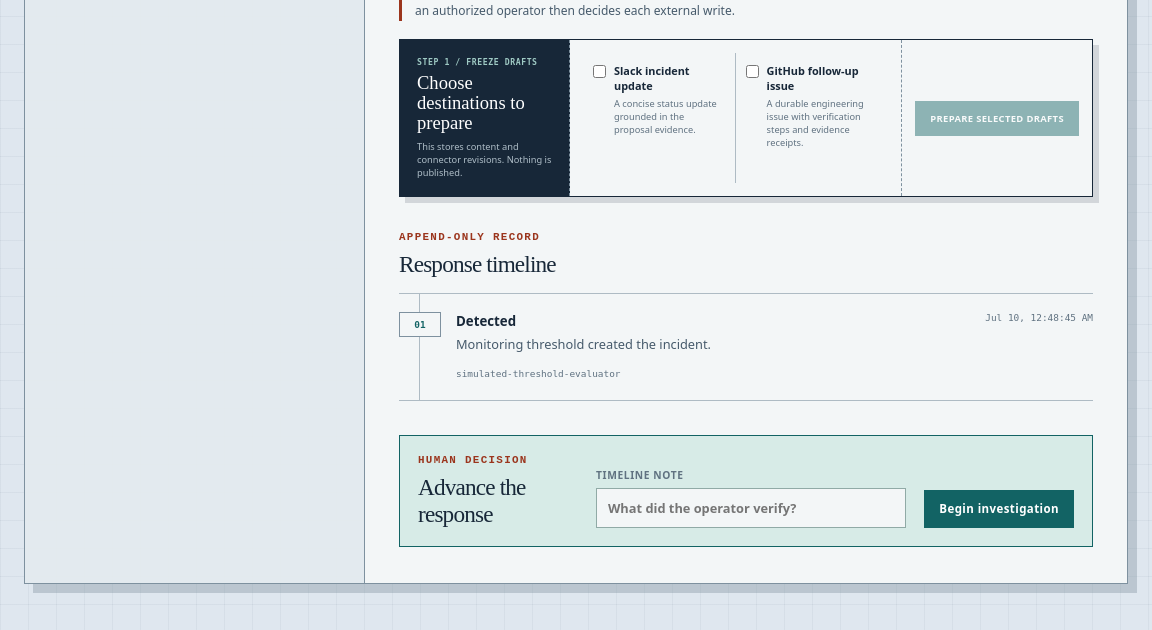
Test: requires evidence review before approving and shows recovery receipt
(page scrolled)
Step 1. Click the button "Begin investigation" → coordinates (999, 509), box 924,490 -> 1074,528
(page scrolled)
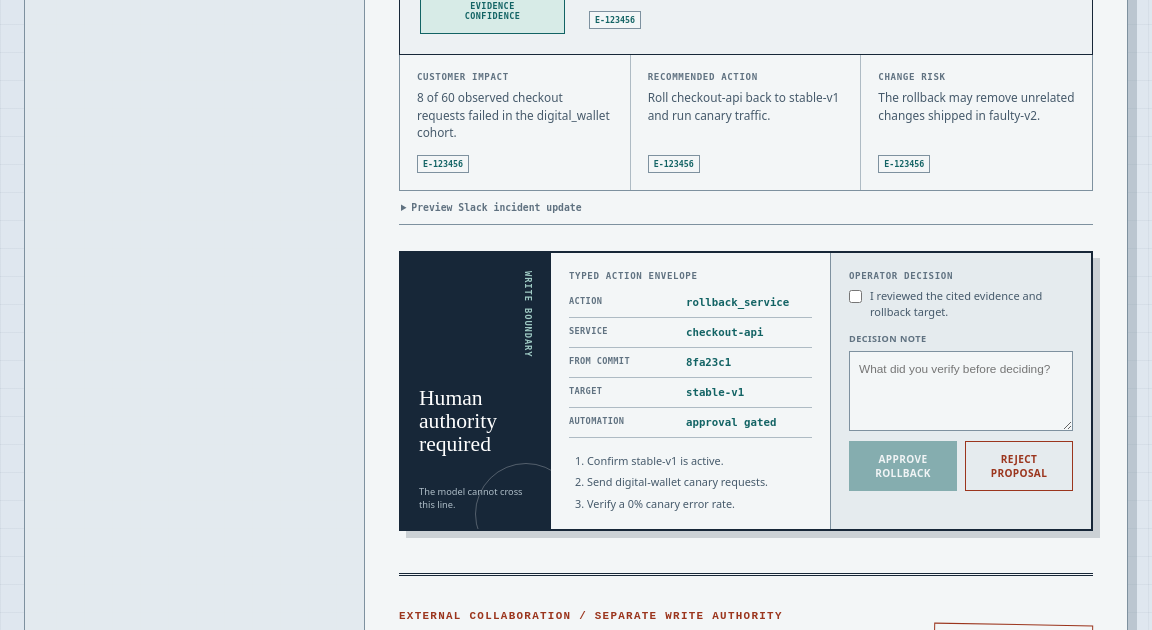
Expected: the button "Approve rollback" is disabled, 849,441 -> 957,491
Step 2. Click the checkbox labelled "I reviewed the cited evidence and rollback target." → coordinates (856, 297), box 849,290 -> 862,303
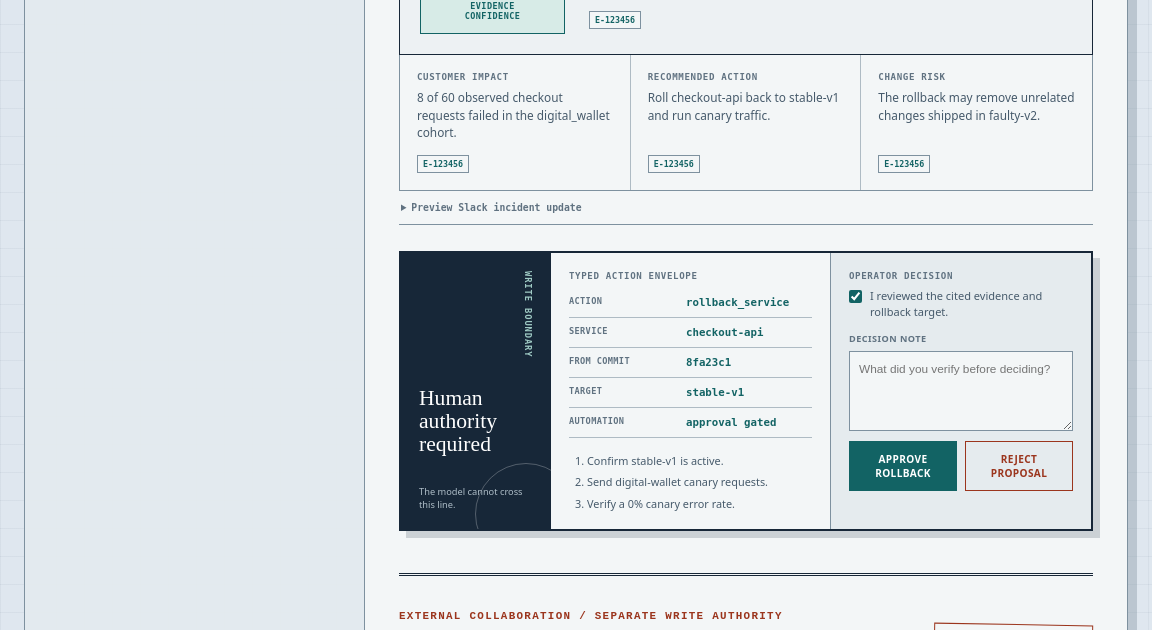
Expected: the button "Approve rollback" is enabled
Step 3. Click the button "Approve rollback" → coordinates (903, 466), box 849,441 -> 957,491
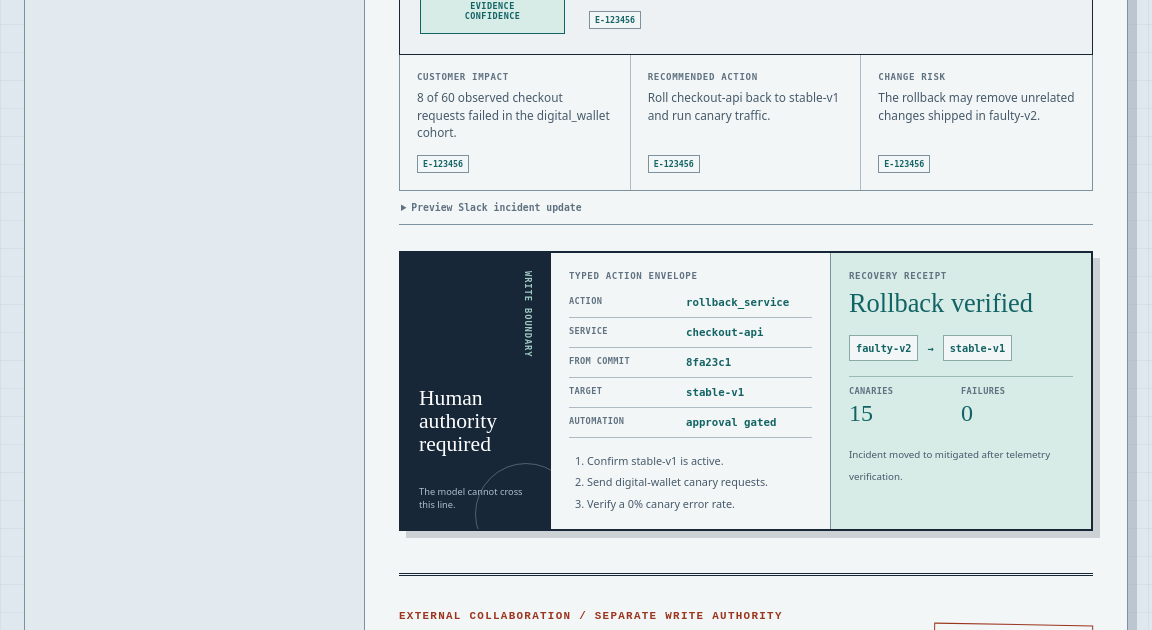
Expected: the text "0" is shown, 961,400 -> 973,426
Expected: the text "Rollback verified" is shown, 849,288 -> 1033,318
Expected: the text "15" is shown, 849,400 -> 873,426
